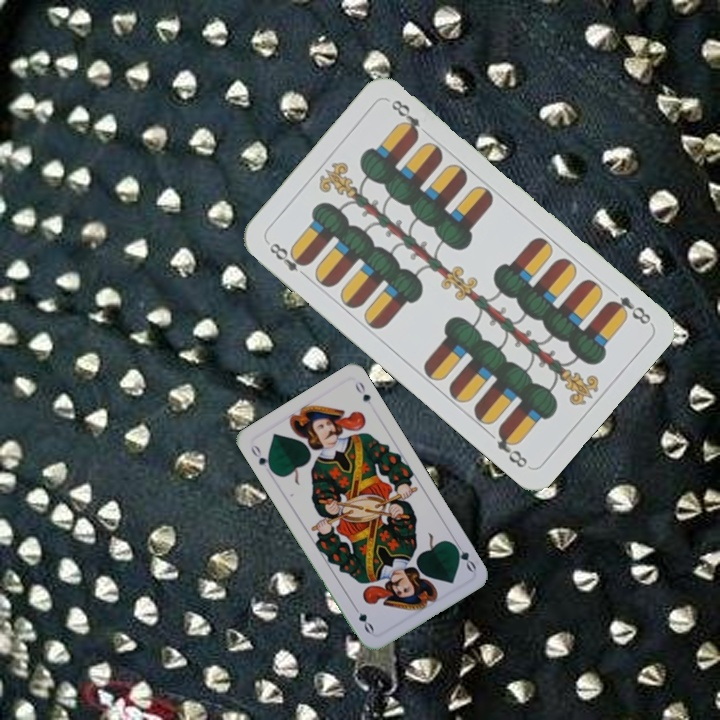E8: (265, 238, 311, 282), (603, 292, 654, 327)
GO: (448, 536, 479, 575), (247, 440, 276, 475)
